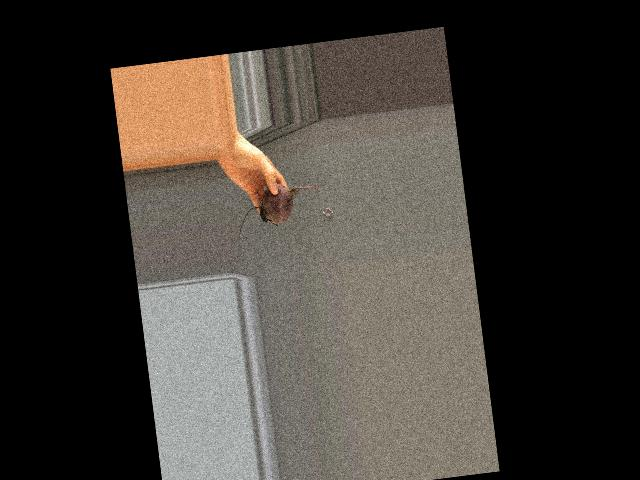beet: (232, 178, 329, 245)
